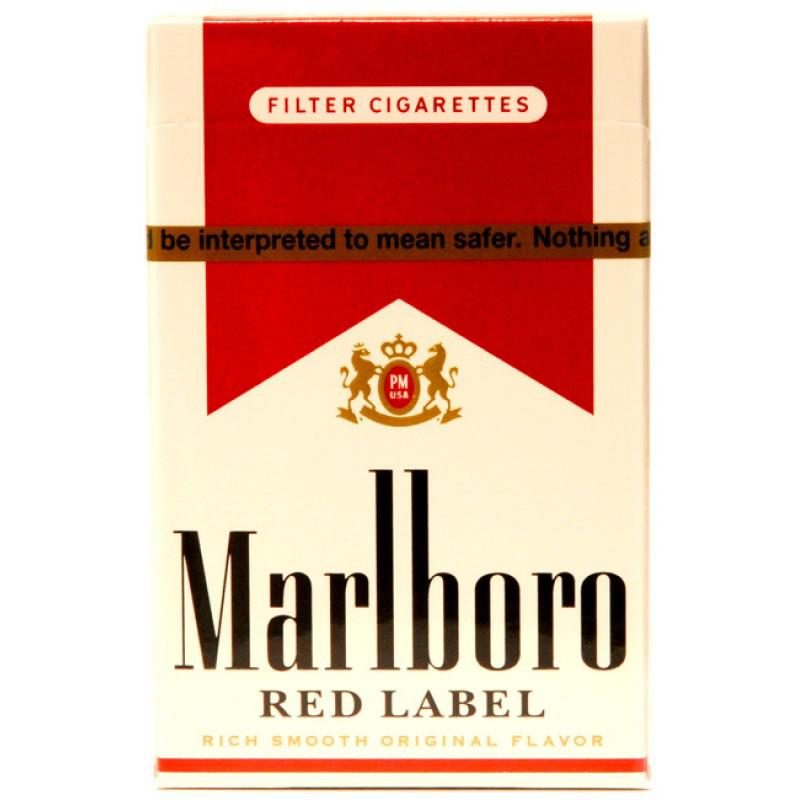marlboro_red: (152, 20, 641, 791)
